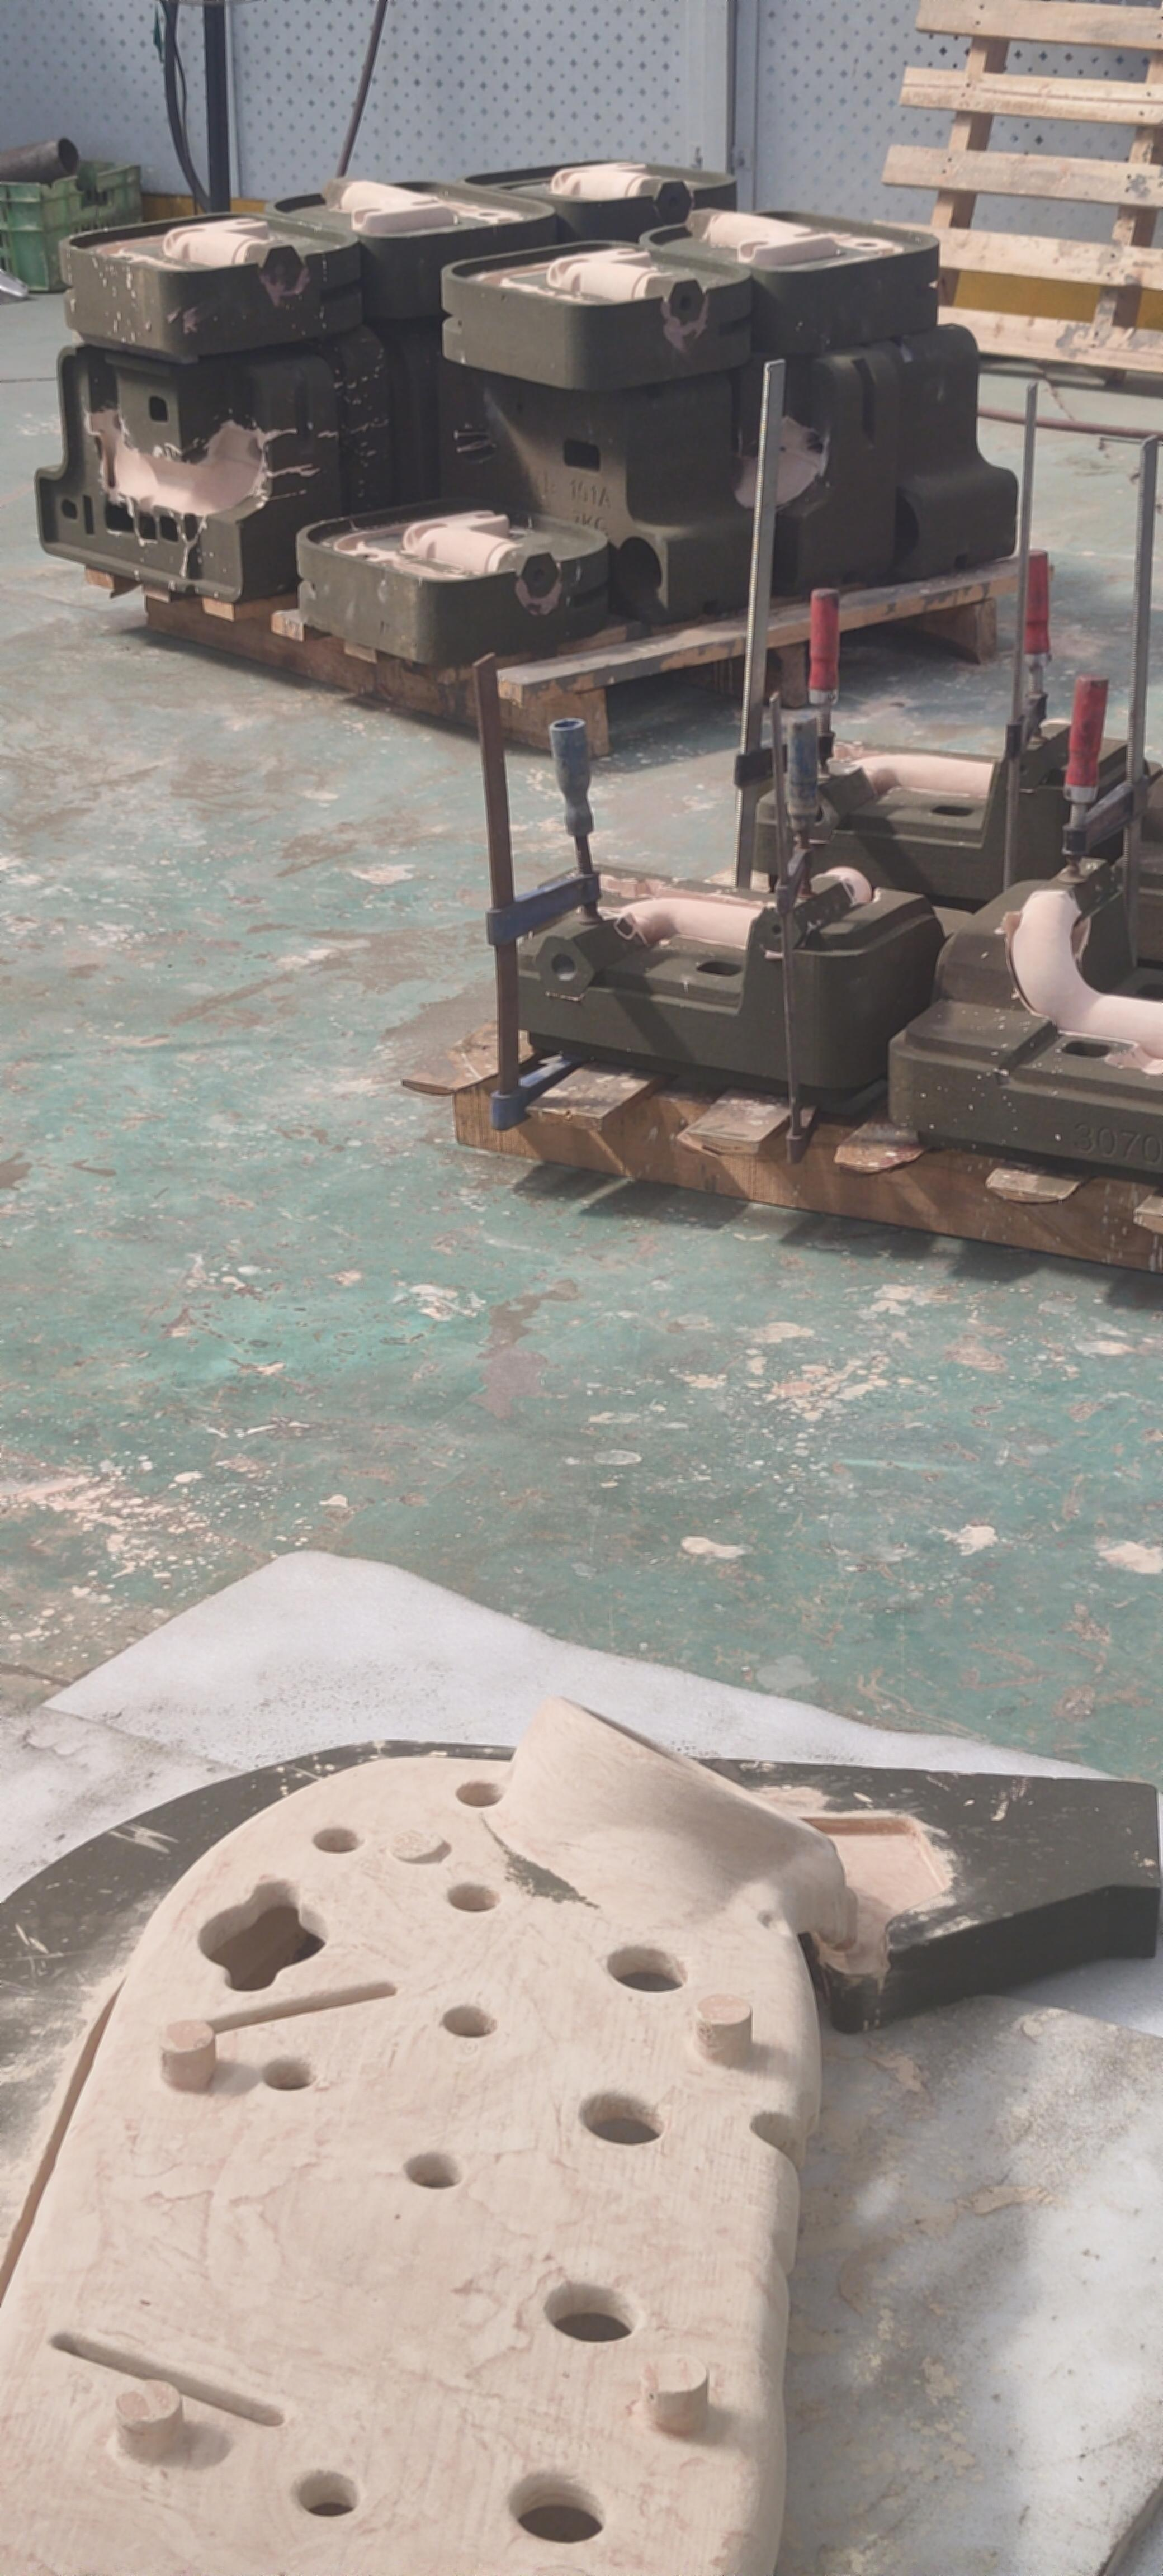pouring hole: (614, 536, 662, 608), (871, 496, 920, 560)
